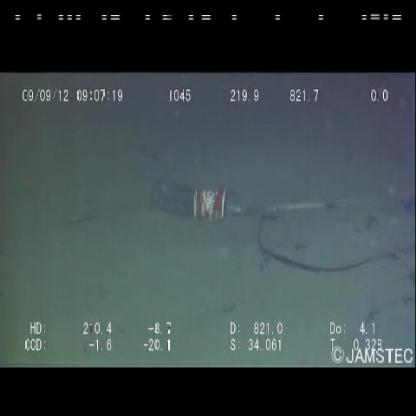Rác: (136, 174, 253, 229)
